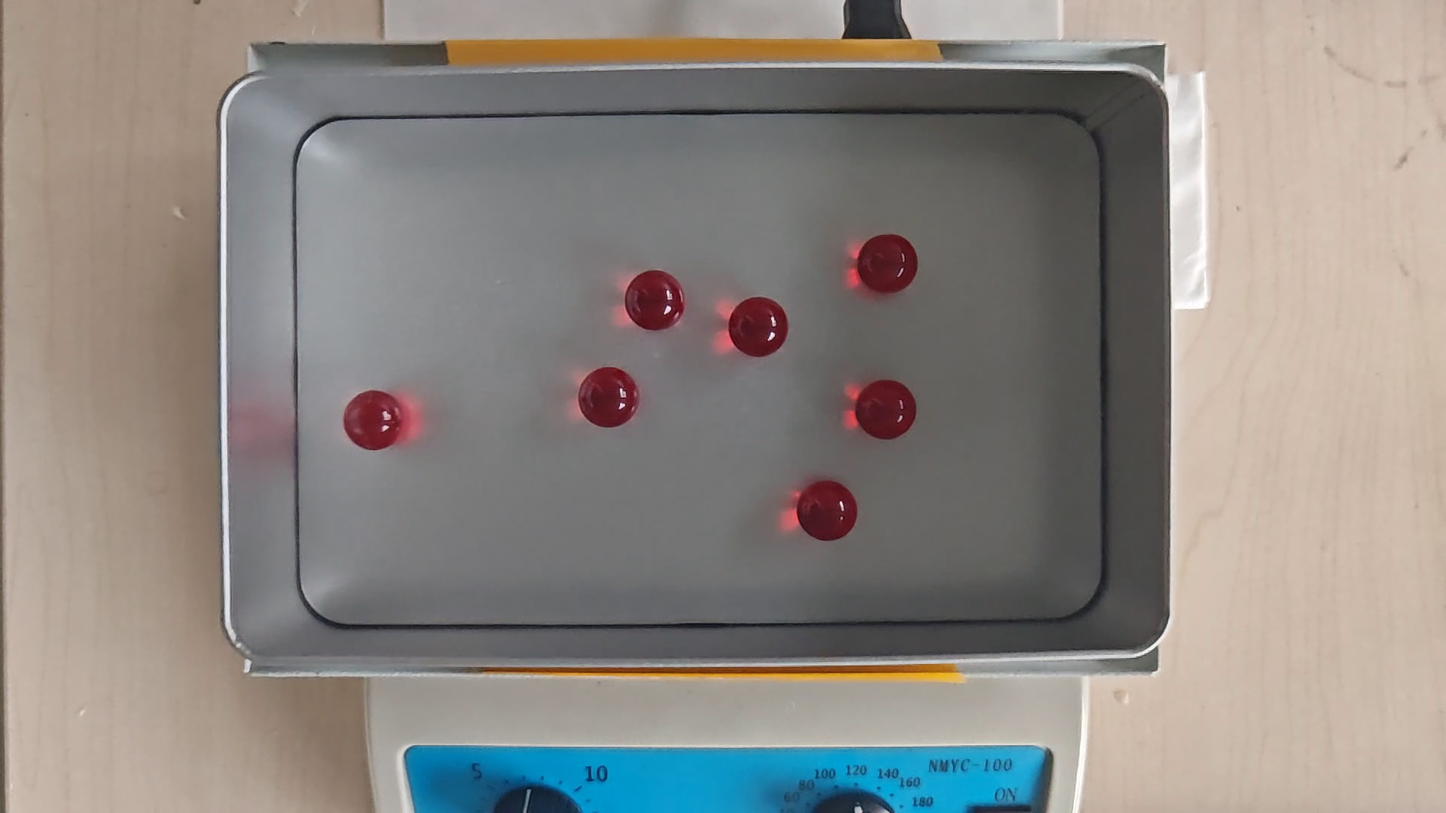ball: (795, 480, 859, 543), (577, 366, 641, 428), (625, 268, 687, 330), (855, 379, 916, 441), (727, 297, 790, 357), (342, 390, 403, 451), (857, 234, 919, 294)
container: (294, 112, 1107, 626)
